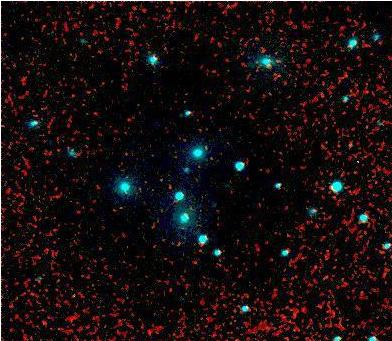star: (143, 112, 173, 142)
